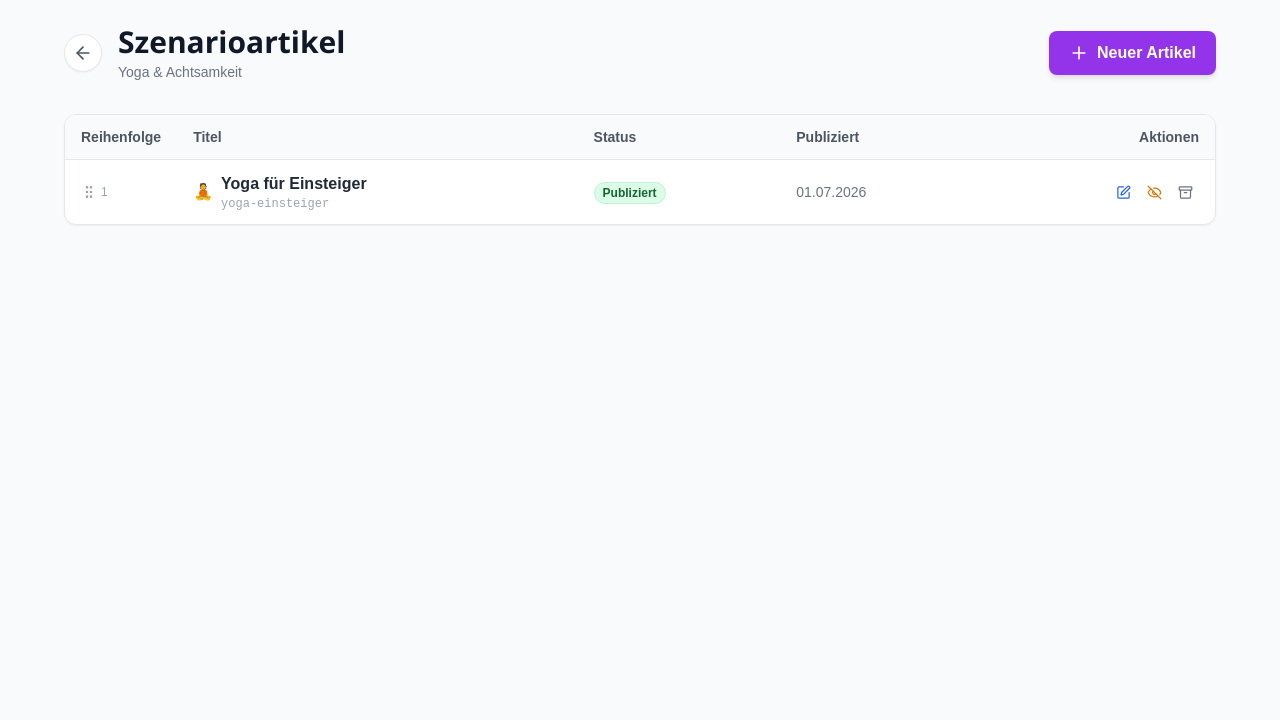
Test: Phase 8.12 UI: Bestätigungsdialog › (15) dialog title is "Artikel zurückziehen"
The width and height of the screenshot is (1280, 720).
Click the button titled "Zurückziehen": (1154, 192) [1141,178,1168,206]
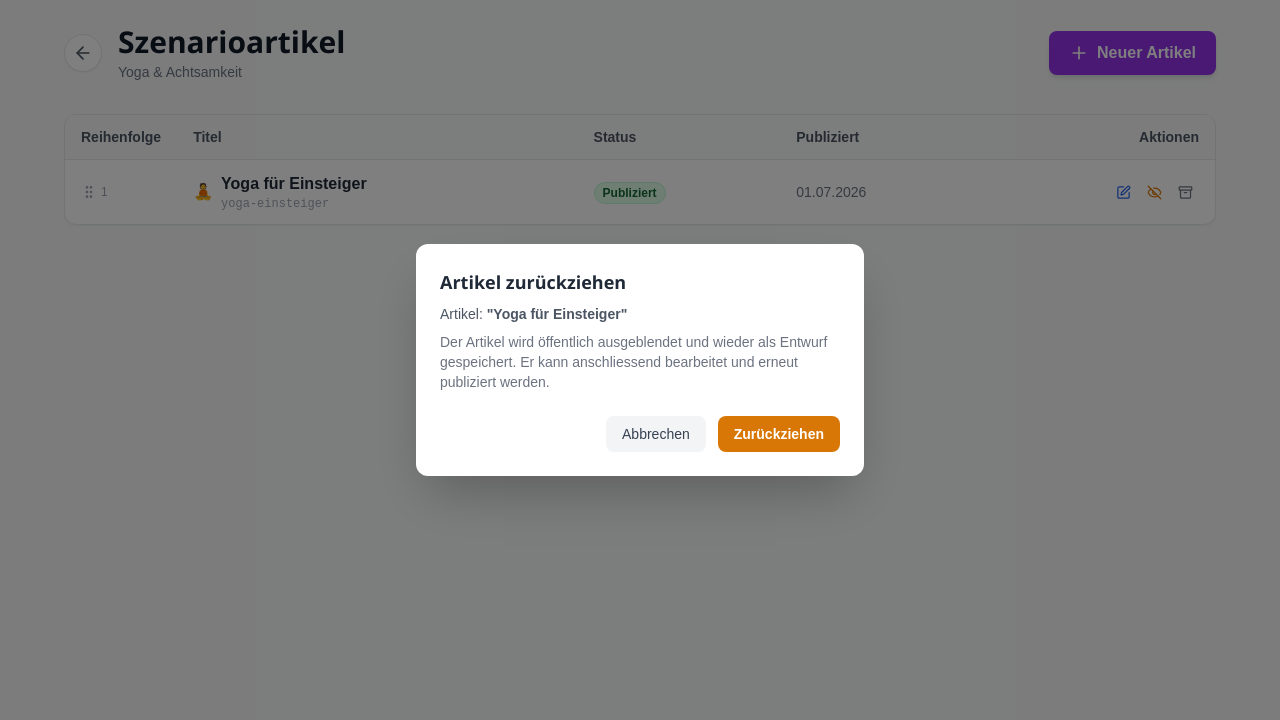
Check: the heading "Artikel zurückziehen" is shown, box [440,270,626,294]
